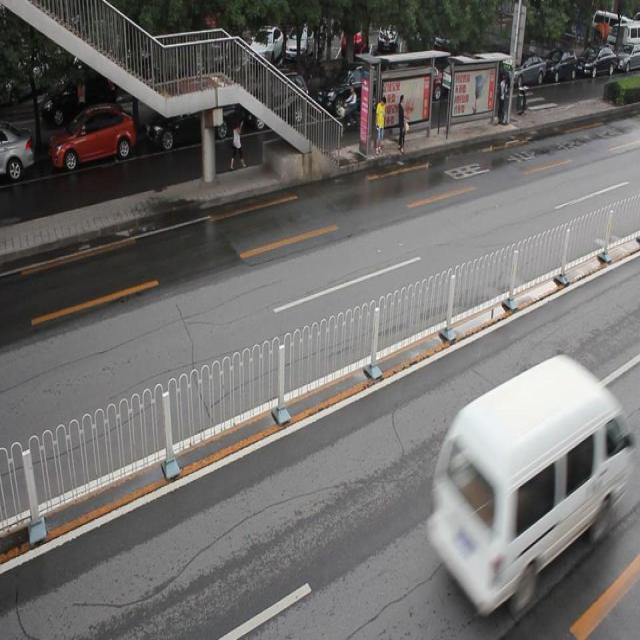car: (52, 108, 138, 169), (146, 93, 239, 148), (317, 64, 390, 120), (245, 73, 312, 134), (1, 125, 36, 181)
truck: (424, 350, 624, 614)
